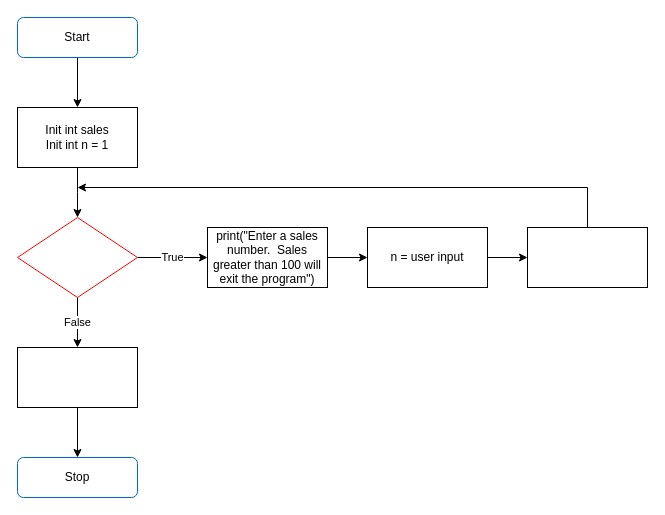
This 665x515 diagram has some shape labels left out. Here are the shapes that lost their labels. From the top down, the centre of each, then its label:
(77,257): While: n < 100
(587,257): sales = n * 10
(77,377): print("Number of sales greater than 100!")
